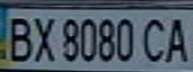0: (115, 15, 139, 63), (78, 15, 96, 63)
8: (57, 14, 81, 63), (97, 15, 118, 63)
A: (160, 13, 193, 64)
B: (3, 12, 36, 64)
C: (139, 15, 172, 64)
X: (30, 12, 57, 63)
